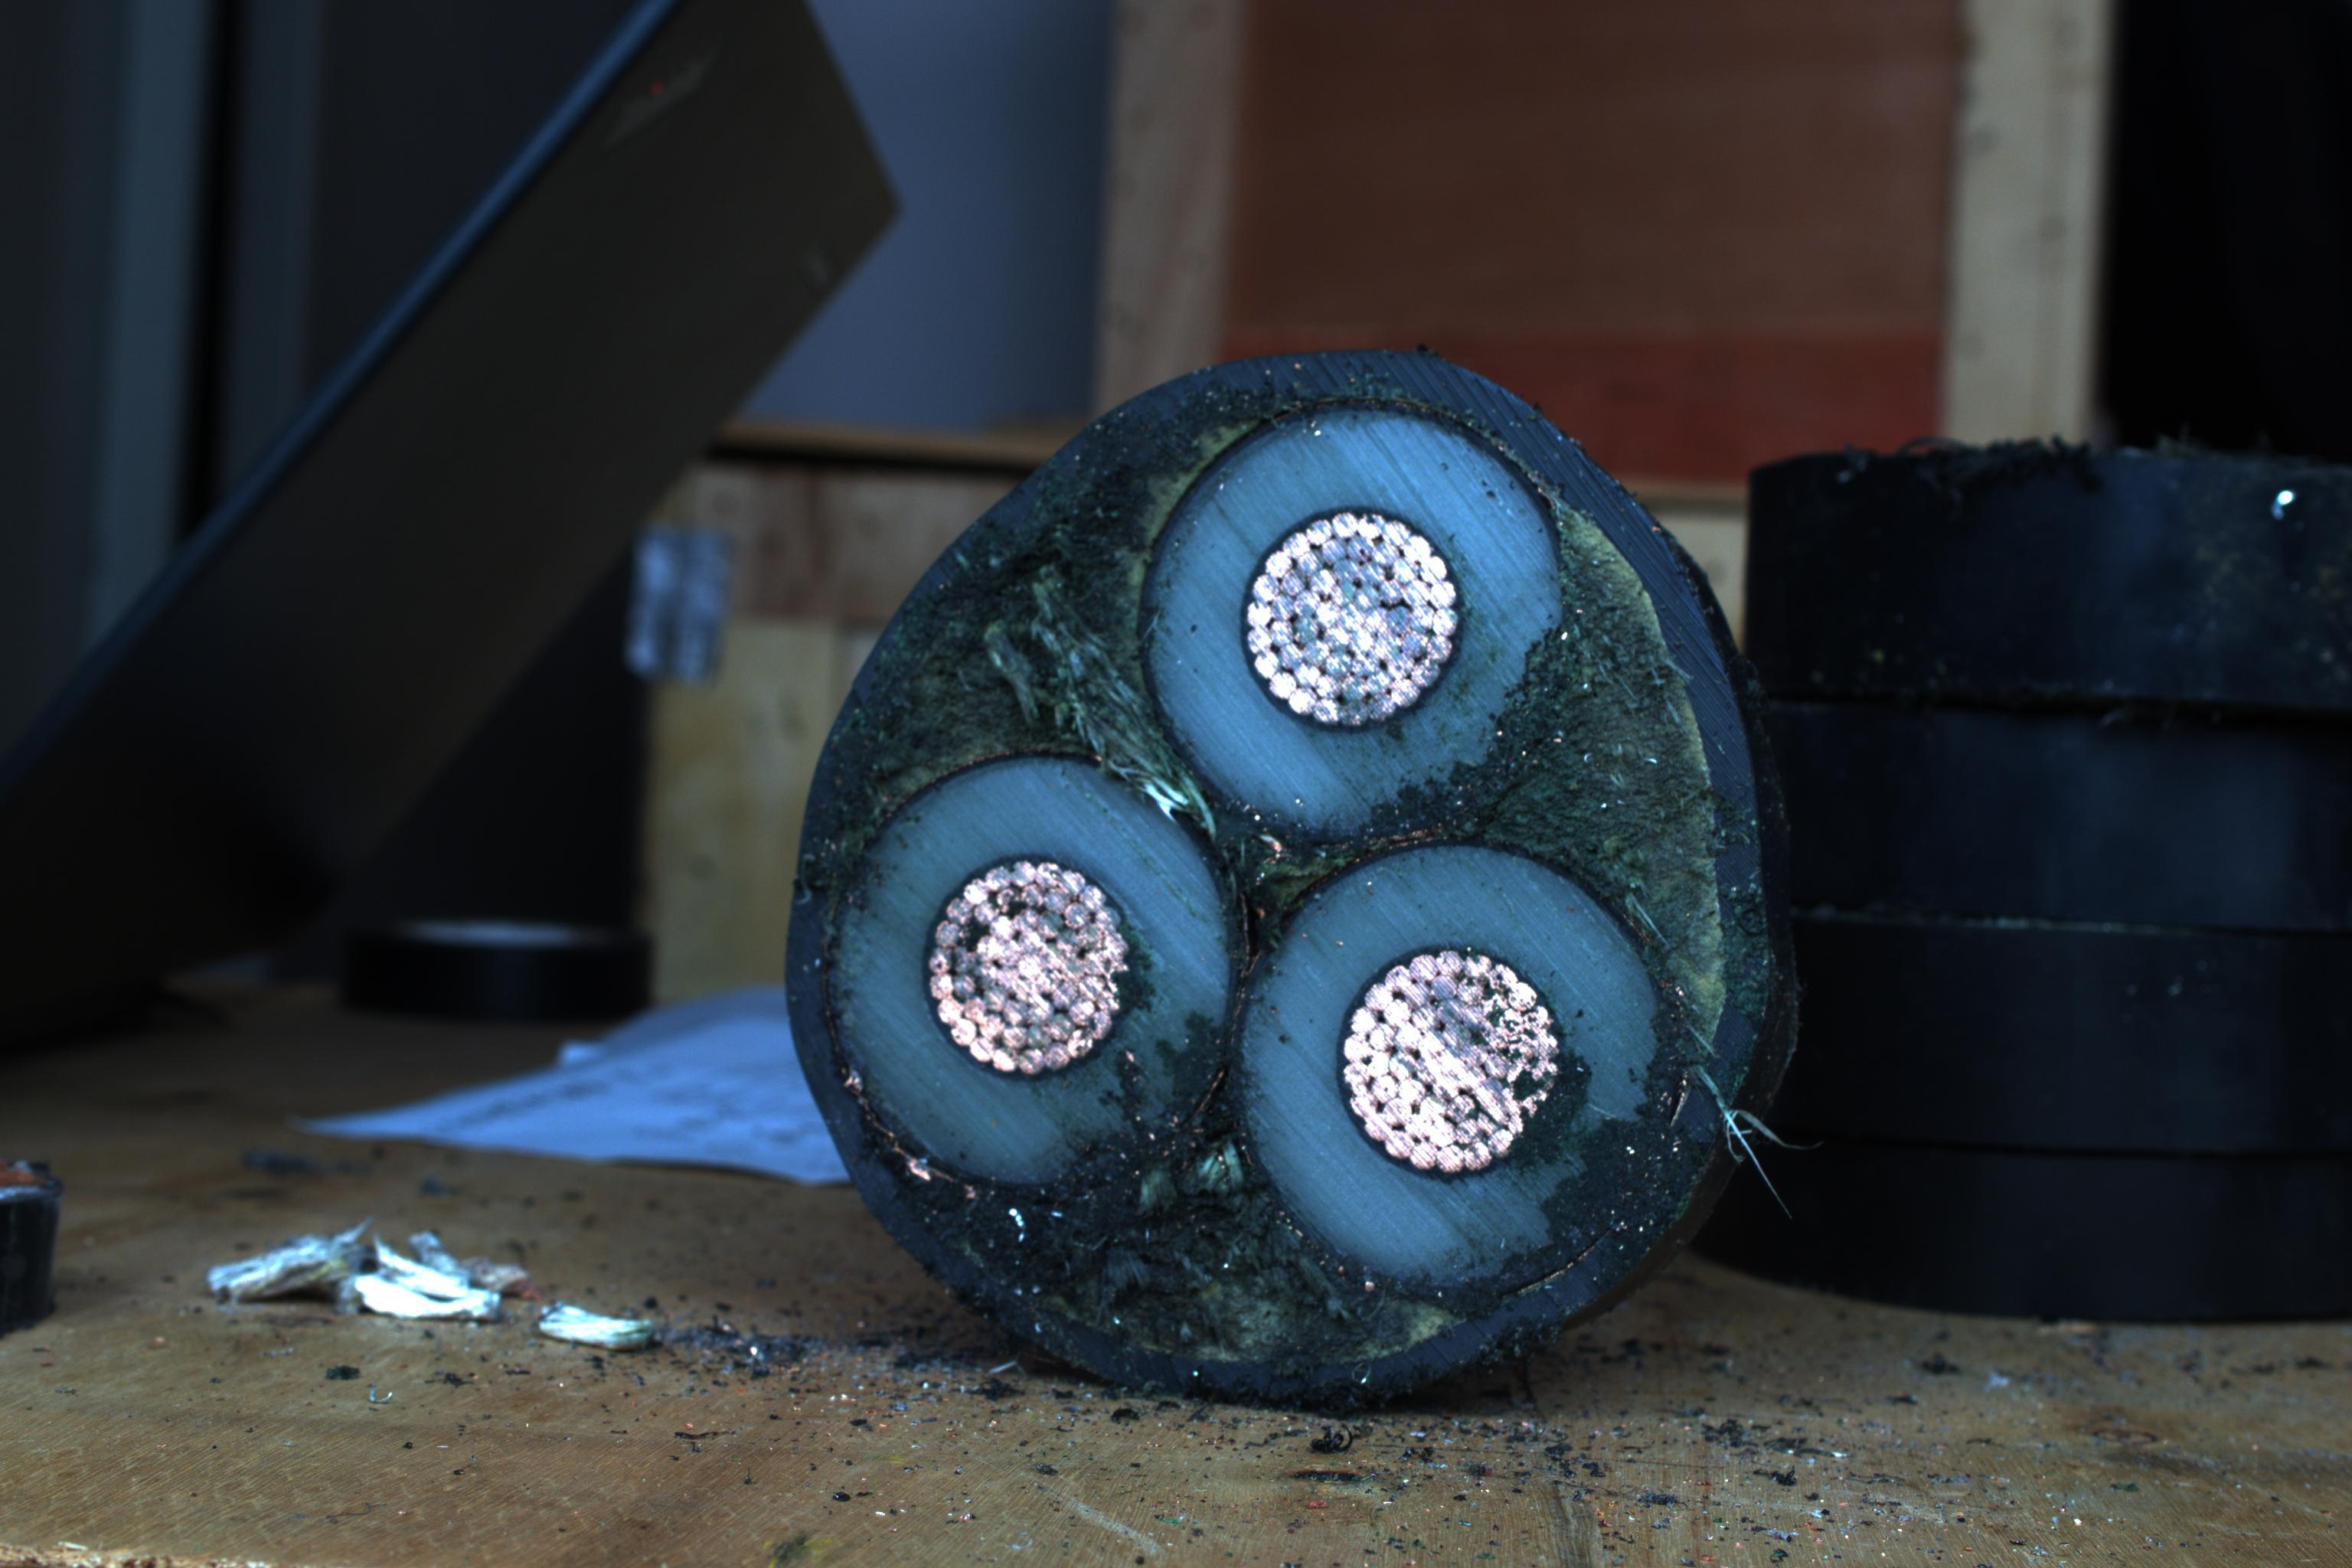ZA_YJV_26_35kV_3x400: (752, 357, 1766, 1372)
